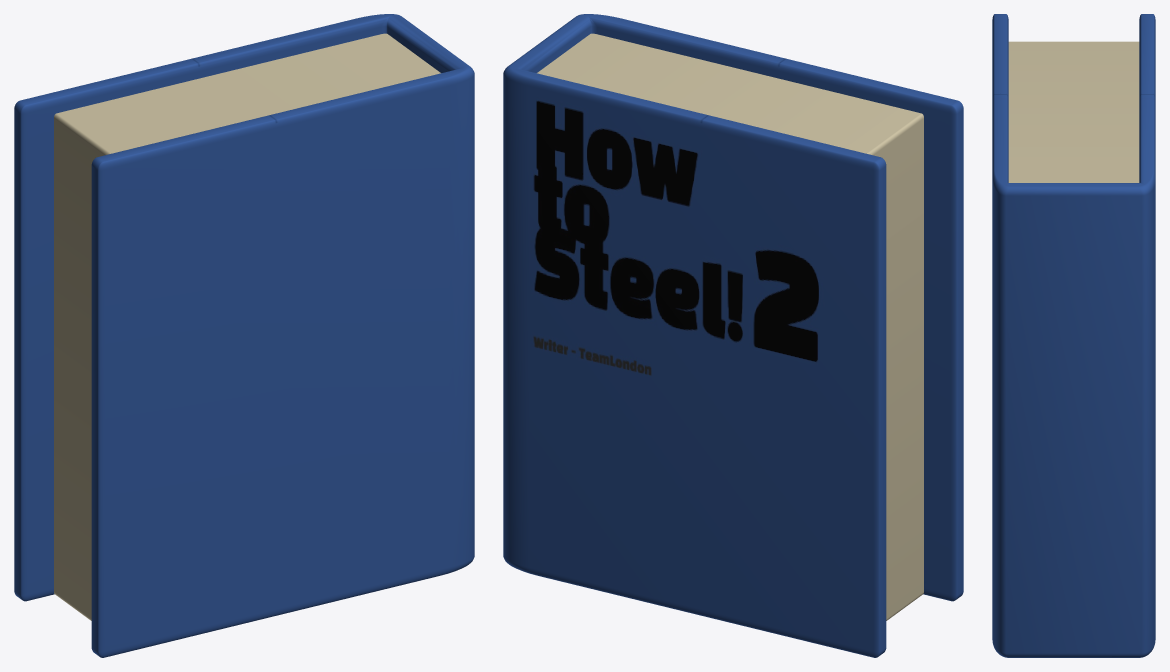
Rendered from Book2.fbx.
The picture shows the model from 3 angles, left to right: view 1: azimuth 30°, elevation 25°; view 2: azimuth 150°, elevation 25°; view 3: azimuth 270°, elevation 25°; orthographic projection. The views are drawn at different scales.
Parts seen in each view (by area): view 1: Cube; view 2: Cube; view 3: Cube.
Part boxes in pixels (x1,y1,x2,y2): Cube: (14, 14, 474, 657); Cube: (503, 14, 963, 657); Cube: (992, 14, 1155, 657).
Bounding box in the file's own units: 98.72 × 123 × 38.47.
